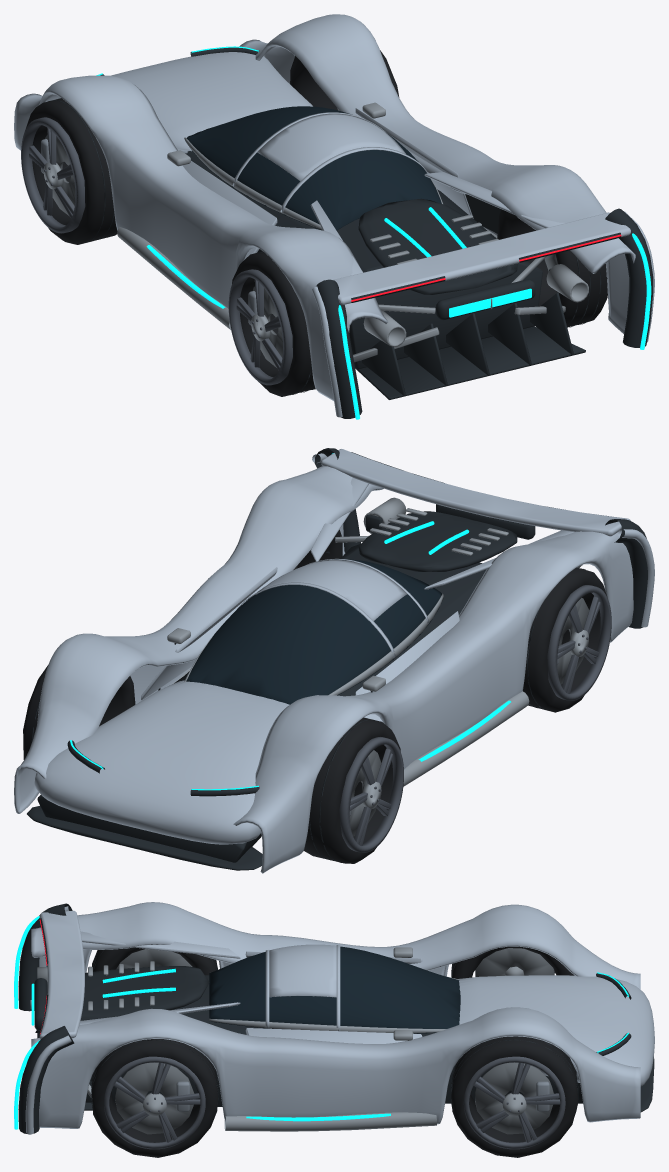
File: CloudlineLOD1.fbx
The picture shows the model from 3 angles, top to bottom: view 1: azimuth 30°, elevation 25°; view 2: azimuth 150°, elevation 25°; view 3: azimuth 270°, elevation 25°; orthographic projection. The views are drawn at different scales.
Parts seen in each view (by area): view 1: Liquid_Silver, Graphite_Aero, Tire_Rubber, Midnight_Glass, Satin_Titanium, Dark_Forged_Rim, Cyan_Energy, Brake_Ceramic; view 2: Liquid_Silver, Graphite_Aero, Midnight_Glass, Tire_Rubber, Dark_Forged_Rim, Satin_Titanium, Brake_Ceramic, Cyan_Energy; view 3: Liquid_Silver, Tire_Rubber, Midnight_Glass, Graphite_Aero, Brake_Ceramic, Dark_Forged_Rim, Satin_Titanium, Cyan_Energy, Titanium_Caliper.
Part boxes in pixels (bbox=[...]): Liquid_Silver: bbox=[14, 14, 654, 417]; Graphite_Aero: bbox=[50, 47, 653, 418]; Tire_Rubber: bbox=[26, 50, 607, 396]; Midnight_Glass: bbox=[185, 106, 441, 230]; Satin_Titanium: bbox=[43, 102, 588, 362]; Dark_Forged_Rim: bbox=[21, 117, 292, 385]; Cyan_Energy: bbox=[96, 46, 651, 419]; Brake_Ceramic: bbox=[45, 108, 557, 367]; Liquid_Silver: bbox=[14, 449, 654, 873]; Graphite_Aero: bbox=[27, 448, 647, 870]; Midnight_Glass: bbox=[186, 559, 443, 704]; Tire_Rubber: bbox=[23, 530, 607, 863]; Dark_Forged_Rim: bbox=[339, 585, 611, 852]; Satin_Titanium: bbox=[167, 497, 588, 808]; Brake_Ceramic: bbox=[293, 565, 589, 836]; Cyan_Energy: bbox=[70, 453, 510, 790]; Liquid_Silver: bbox=[25, 902, 654, 1134]; Tire_Rubber: bbox=[91, 946, 578, 1157]; Midnight_Glass: bbox=[209, 946, 460, 1033]; Graphite_Aero: bbox=[18, 903, 654, 1133]; Brake_Ceramic: bbox=[115, 948, 554, 1134]; Dark_Forged_Rim: bbox=[104, 969, 565, 1149]; Satin_Titanium: bbox=[30, 947, 526, 1131]; Cyan_Energy: bbox=[14, 916, 628, 1129]; Titanium_Caliper: bbox=[176, 1081, 549, 1111].
Bounding box in the file's own units: 265 × 126 × 518.
